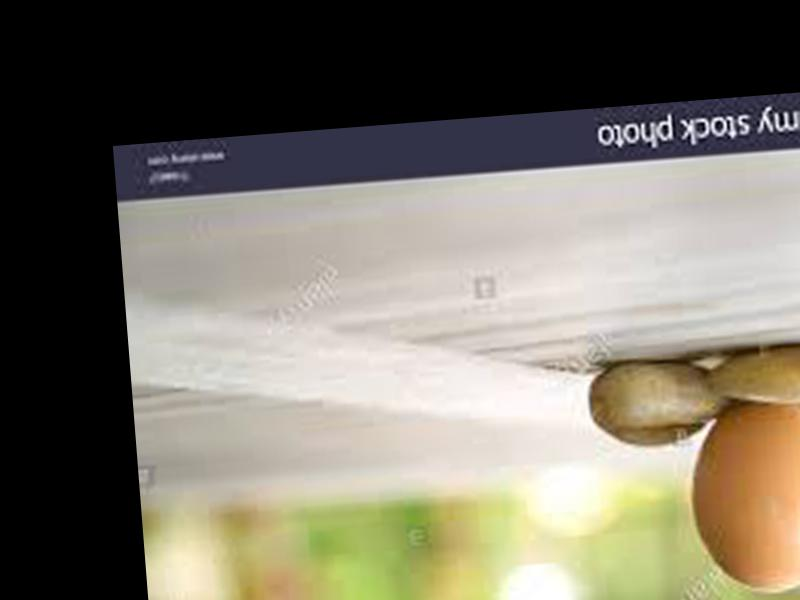Eggs: (684, 396, 800, 595)
